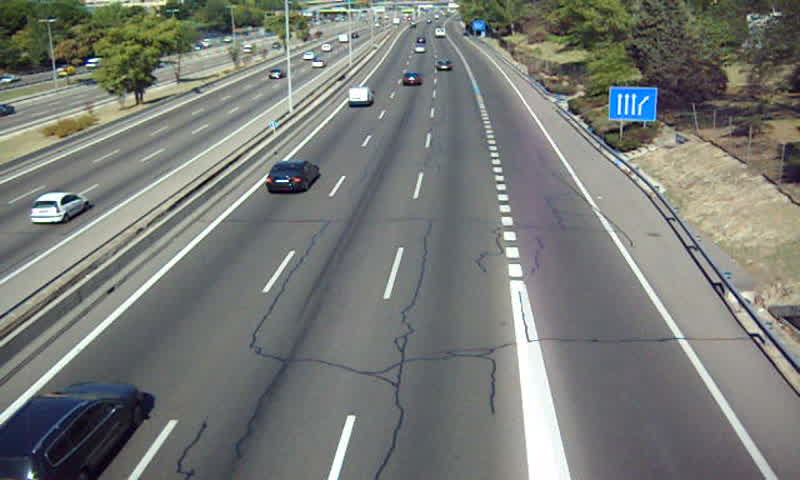car: (1, 380, 139, 480), (265, 161, 320, 192), (401, 71, 422, 87), (433, 59, 454, 74)
van: (348, 87, 372, 106)
